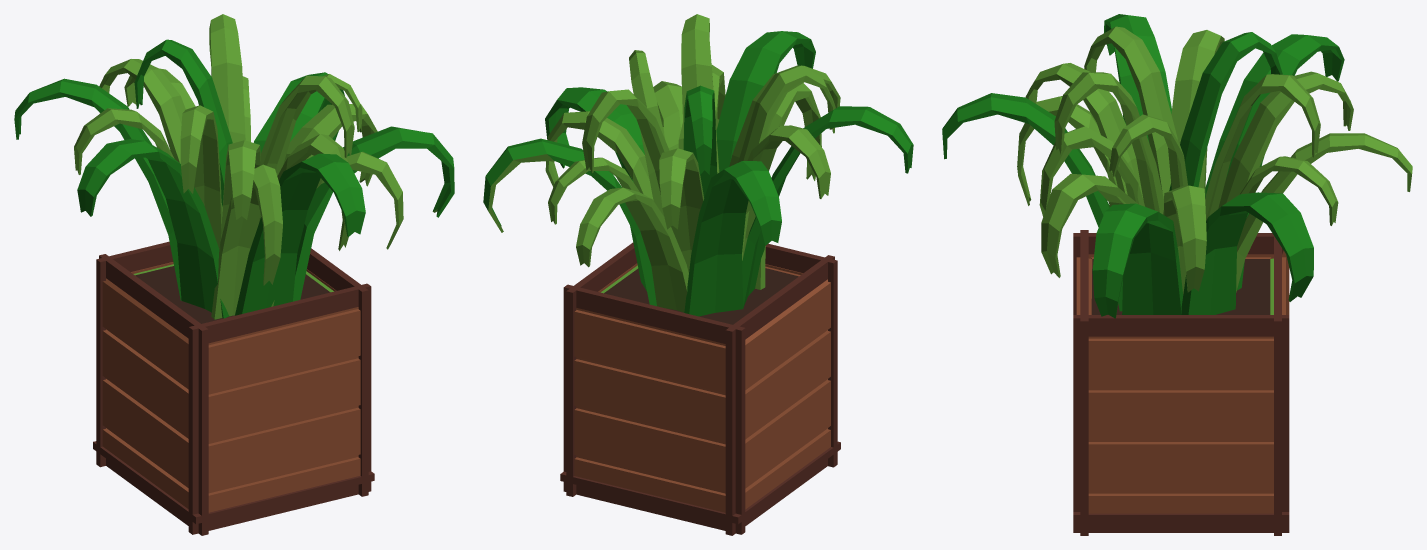
Rendered from crate_plant.fbx.
3 views of the same model, side by side, from view 1: azimuth 30°, elevation 25°; view 2: azimuth 150°, elevation 25°; view 3: azimuth 270°, elevation 25° (orthographic). The views are drawn at different scales.
Parts seen in each view (by area): view 1: pot.002; view 2: pot.002; view 3: pot.002.
Part boxes in pixels (left/top/right/bottom): pot.002: left=14, top=14, right=454, bottom=535; pot.002: left=483, top=14, right=913, bottom=535; pot.002: left=942, top=14, right=1412, bottom=535.
Size of the model in its own units: 83.9 by 92.26 by 89.08.
